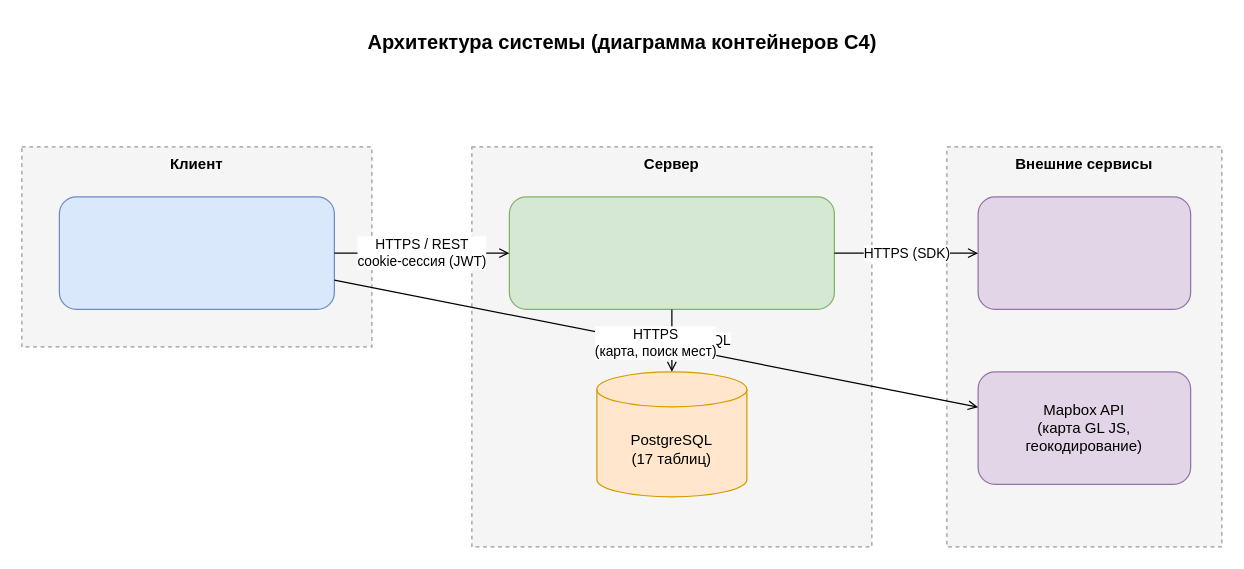
Some shapes in this 1244 by 569 pixel diagram are drawn without their labels. Here are the shapes that lost their labels. From the top down, the centre of each, then its label:
At (196,252): "React SPA (Vite, TypeScript, TanStack Query) Браузер пользователя".
At (671,252): "NestJS REST API (TypeScript, модули, guard'ы, валидация DTO, бизнес-логика)".
At (1084,252): "Anthropic Claude API (LLM: ответы, анализ, память, подсказки)".
